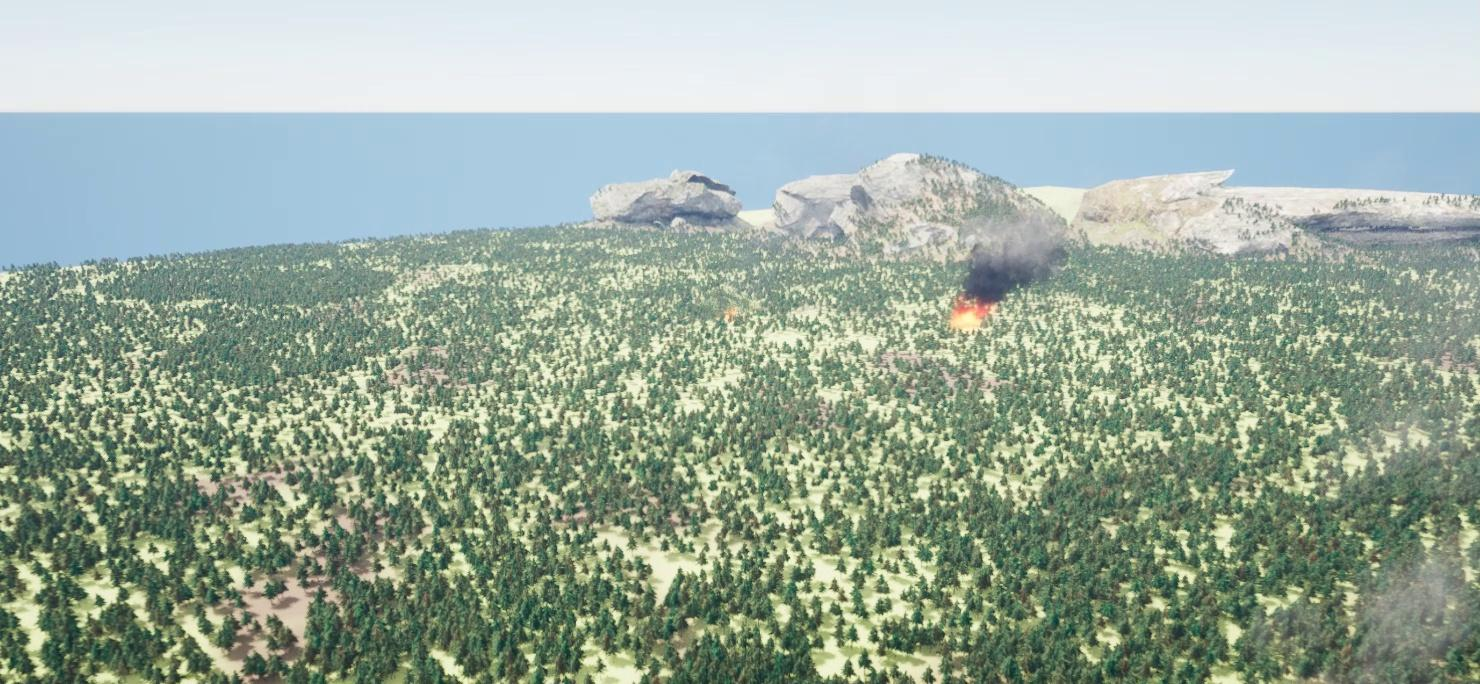fire: (937, 304, 994, 332)
smoke: (1264, 560, 1472, 683), (962, 230, 1050, 301)
